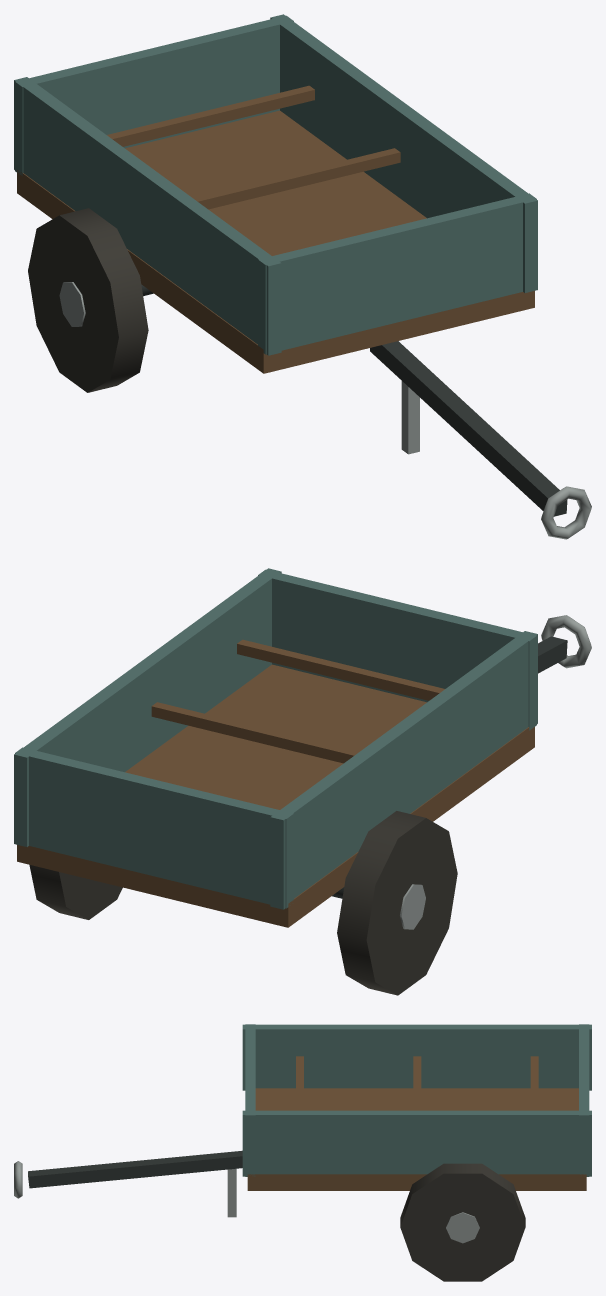
Rendered from Trailer.glb.
3 views of the same model, one above another, from view 1: azimuth 30°, elevation 25°; view 2: azimuth 150°, elevation 25°; view 3: azimuth 270°, elevation 25° (orthographic). The views are drawn at different scales.
Parts seen in each view (by area): view 1: trailer-static-trailer-paint-mat, trailer-static-trailer-timber-mat, trailer-static-trailer-wheel-mat, trailer-static-trailer-iron-mat, trailer-static-trailer-steel-mat; view 2: trailer-static-trailer-paint-mat, trailer-static-trailer-timber-mat, trailer-static-trailer-wheel-mat, trailer-static-trailer-steel-mat, trailer-static-trailer-iron-mat; view 3: trailer-static-trailer-paint-mat, trailer-static-trailer-timber-mat, trailer-static-trailer-wheel-mat, trailer-static-trailer-iron-mat, trailer-static-trailer-steel-mat.
Boxes of the visible parts, x1=… form: trailer-static-trailer-paint-mat: x1=14, y1=14, x2=537, y2=355; trailer-static-trailer-timber-mat: x1=17, y1=85, x2=534, y2=373; trailer-static-trailer-wheel-mat: x1=28, y1=208, x2=148, y2=392; trailer-static-trailer-iron-mat: x1=141, y1=284, x2=567, y2=516; trailer-static-trailer-steel-mat: x1=59, y1=282, x2=591, y2=539; trailer-static-trailer-paint-mat: x1=14, y1=568, x2=537, y2=909; trailer-static-trailer-timber-mat: x1=17, y1=639, x2=534, y2=927; trailer-static-trailer-wheel-mat: x1=29, y1=811, x2=457, y2=995; trailer-static-trailer-steel-mat: x1=400, y1=615, x2=591, y2=929; trailer-static-trailer-iron-mat: x1=332, y1=636, x2=567, y2=898; trailer-static-trailer-paint-mat: x1=242, y1=1024, x2=591, y2=1176; trailer-static-trailer-timber-mat: x1=247, y1=1056, x2=586, y2=1190; trailer-static-trailer-wheel-mat: x1=400, y1=1163, x2=525, y2=1281; trailer-static-trailer-iron-mat: x1=28, y1=1150, x2=242, y2=1188; trailer-static-trailer-steel-mat: x1=14, y1=1161, x2=479, y2=1243.
Bounding box in the file's own units: 2.08 × 1.31 × 4.43.
